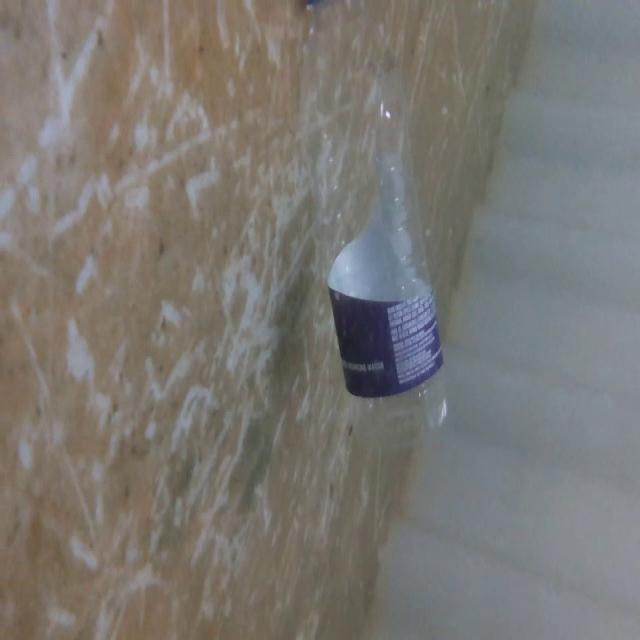plastic bottle: (252, 0, 463, 457)
